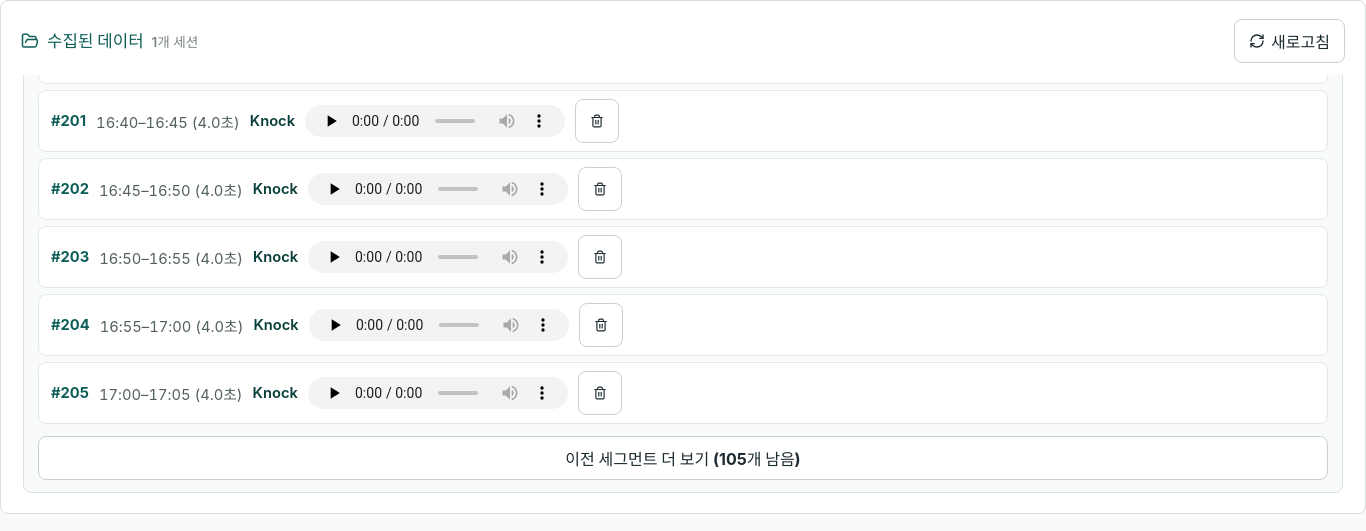
Test: CollectedSessionsPanel › renders long sessions in 100-segment pages starting from the newest
The image size is (1366, 531).
(page scrolled)
Check: the element named "세그먼트 205 재생" is shown, box 308,377 -> 568,409
Click the button "이전 세그먼트 더 보기 (105개 남음)" at (683, 458), box 38,436 -> 1328,480
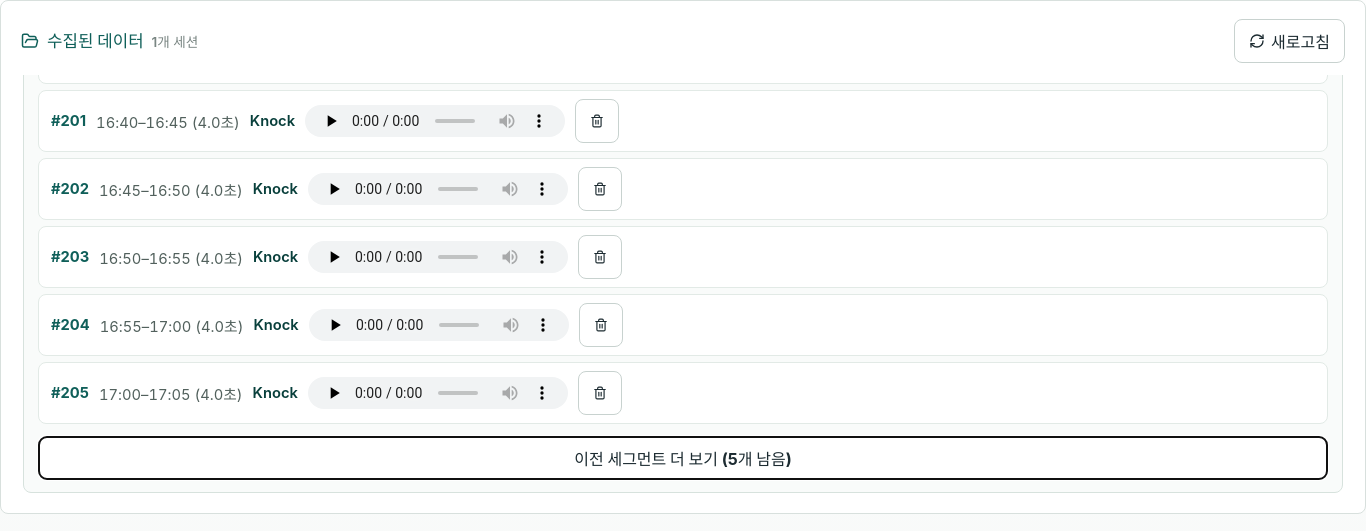
Check: the button "이전 세그먼트 더 보기 (5개 남음)" is shown, box 38,436 -> 1328,480
